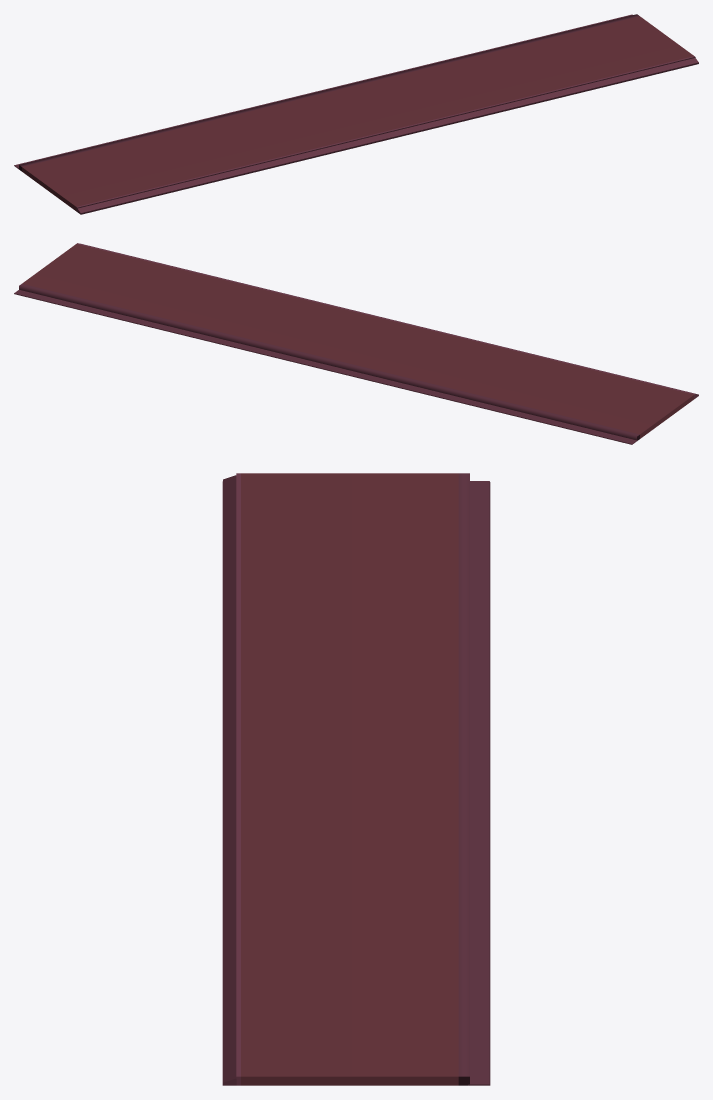
File: W_M_16x3_Sidewalk_L3.fbx
The picture shows the model from 3 angles, top to bottom: view 1: azimuth 30°, elevation 25°; view 2: azimuth 150°, elevation 25°; view 3: azimuth 270°, elevation 25°; orthographic projection. The views are drawn at different scales.
Parts seen in each view (by area): view 1: W_M_16x3_Sidewalk_L3; view 2: W_M_16x3_Sidewalk_L3; view 3: W_M_16x3_Sidewalk_L3.
Boxes of the visible parts, bbox=[...] form: W_M_16x3_Sidewalk_L3: bbox=[14, 14, 698, 214]; W_M_16x3_Sidewalk_L3: bbox=[14, 243, 698, 444]; W_M_16x3_Sidewalk_L3: bbox=[222, 473, 490, 1085].
Size of the model in its own units: 16 by 3 by 0.1141.
